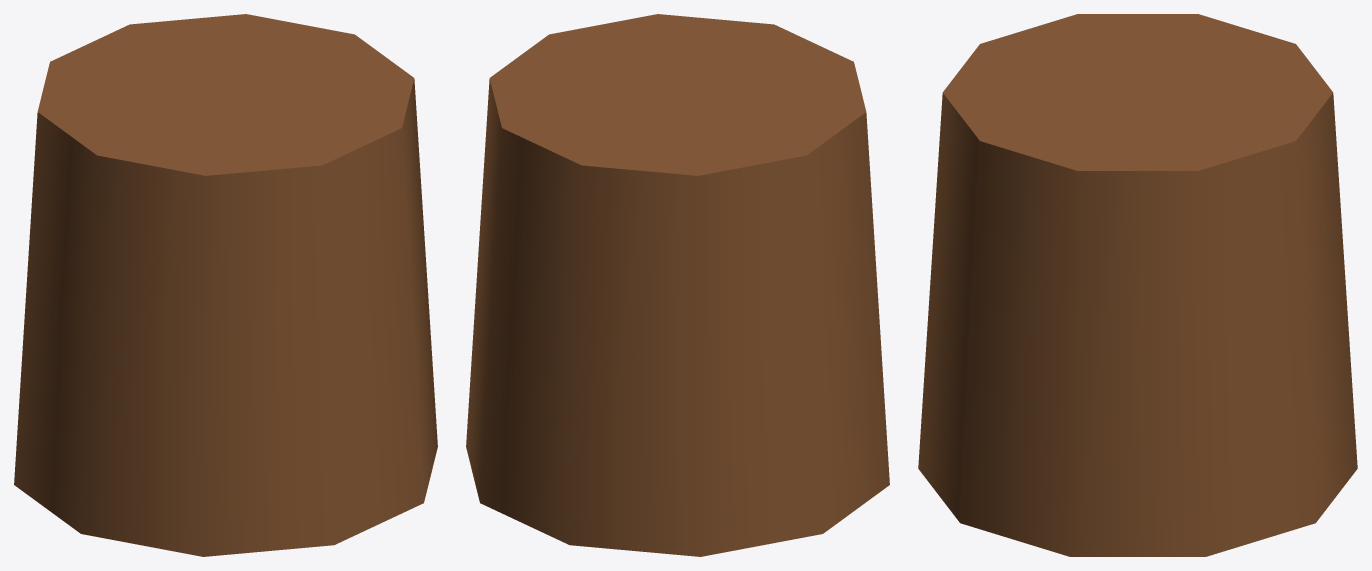
File: barrel.glb
The picture shows the model from 3 angles, left to right: view 1: azimuth 30°, elevation 25°; view 2: azimuth 150°, elevation 25°; view 3: azimuth 270°, elevation 25°; orthographic projection.
Parts seen in each view (by area): view 1: barrel; view 2: barrel; view 3: barrel.
Boxes of the visible parts, left/top/right/bottom form: barrel: left=14, top=14, right=437, bottom=556; barrel: left=466, top=14, right=889, bottom=556; barrel: left=918, top=14, right=1357, bottom=556.
Bounding box in the file's own units: 0.856 × 0.85 × 0.9.
